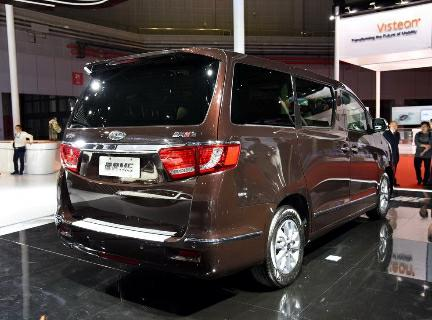江淮-瑞风M6: (49, 45, 402, 287)
